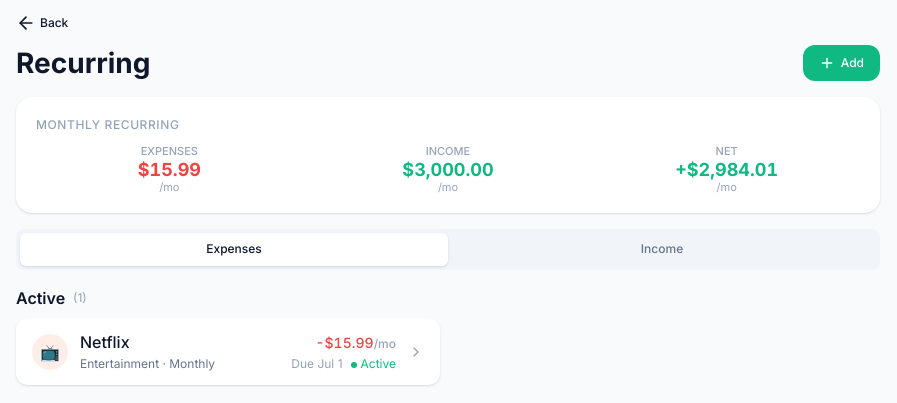
Test: SubscriptionsPage › shows income subscriptions on Income tab
What coordinates should you click on to do the following:
click the button with test id "tab-income"
I would click on:
 (662, 250)
Its box is top-left (448, 233), bottom-right (876, 266).
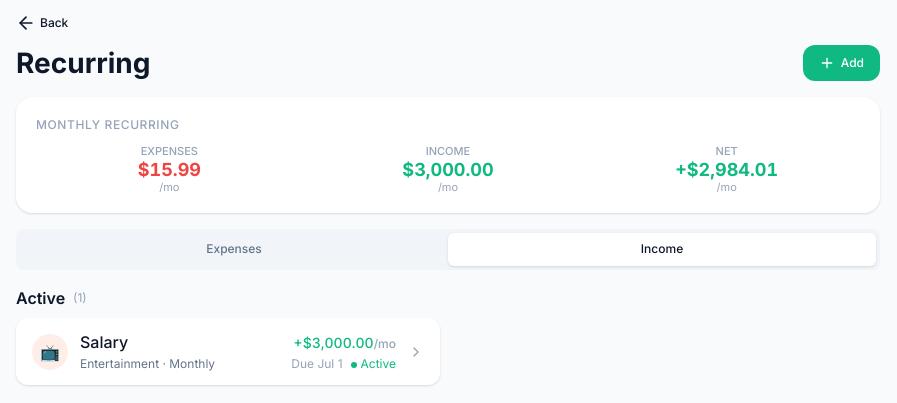
Expected: the button with test id "subscription-item-i1" is shown, top-left (32, 332), bottom-right (424, 371)
